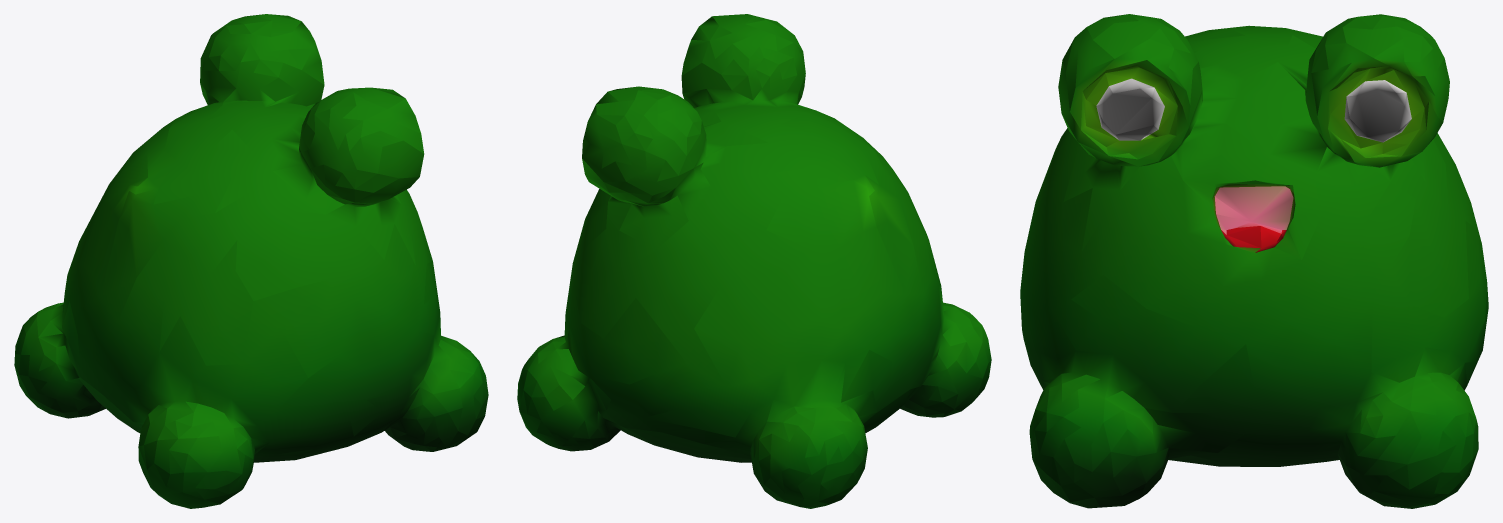
The picture shows the model from 3 angles, left to right: view 1: azimuth 30°, elevation 25°; view 2: azimuth 150°, elevation 25°; view 3: azimuth 270°, elevation 25°; orthographic projection. The views are drawn at different scales.
Visible parts, largest first — view 1: 큐브; view 2: 큐브; view 3: 큐브.
Boxes of the visible parts, x1=… form: 큐브: x1=14, y1=14, x2=488, y2=508; 큐브: x1=517, y1=14, x2=991, y2=508; 큐브: x1=1020, y1=14, x2=1488, y2=508.
Size of the model in its own units: 156 by 160 by 153.
